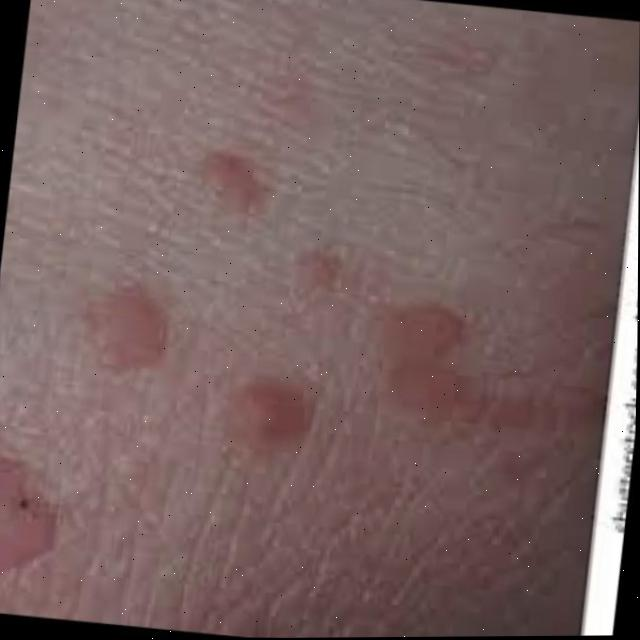Eczema: (0, 150, 493, 633)
